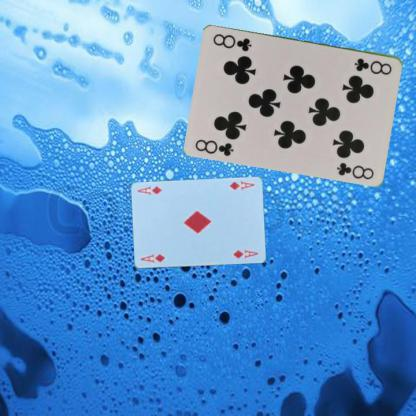8c: (193, 136, 235, 158), (352, 55, 393, 76)
Ad: (138, 251, 166, 265), (227, 179, 255, 191)
